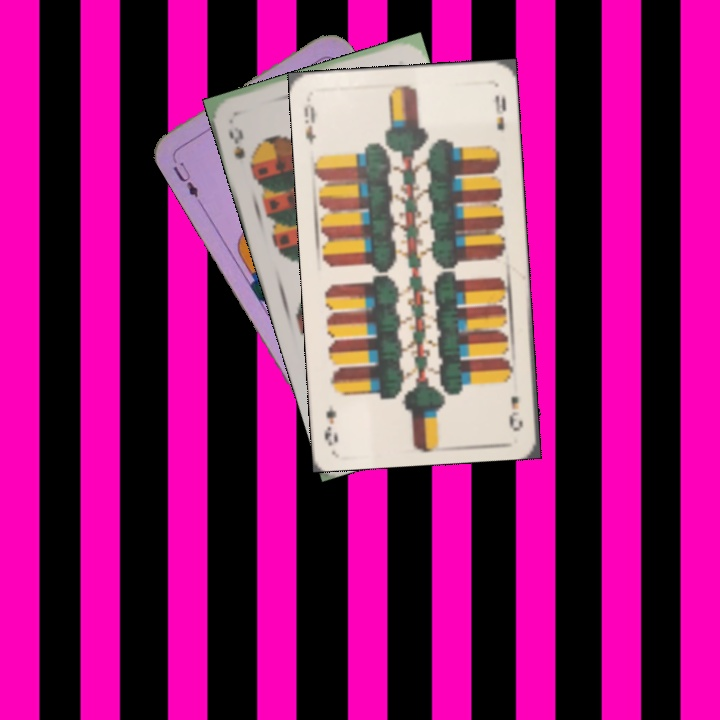E9: (300, 99, 319, 147), (505, 392, 525, 433)
EU: (167, 151, 201, 200)
S9: (224, 122, 258, 173)
